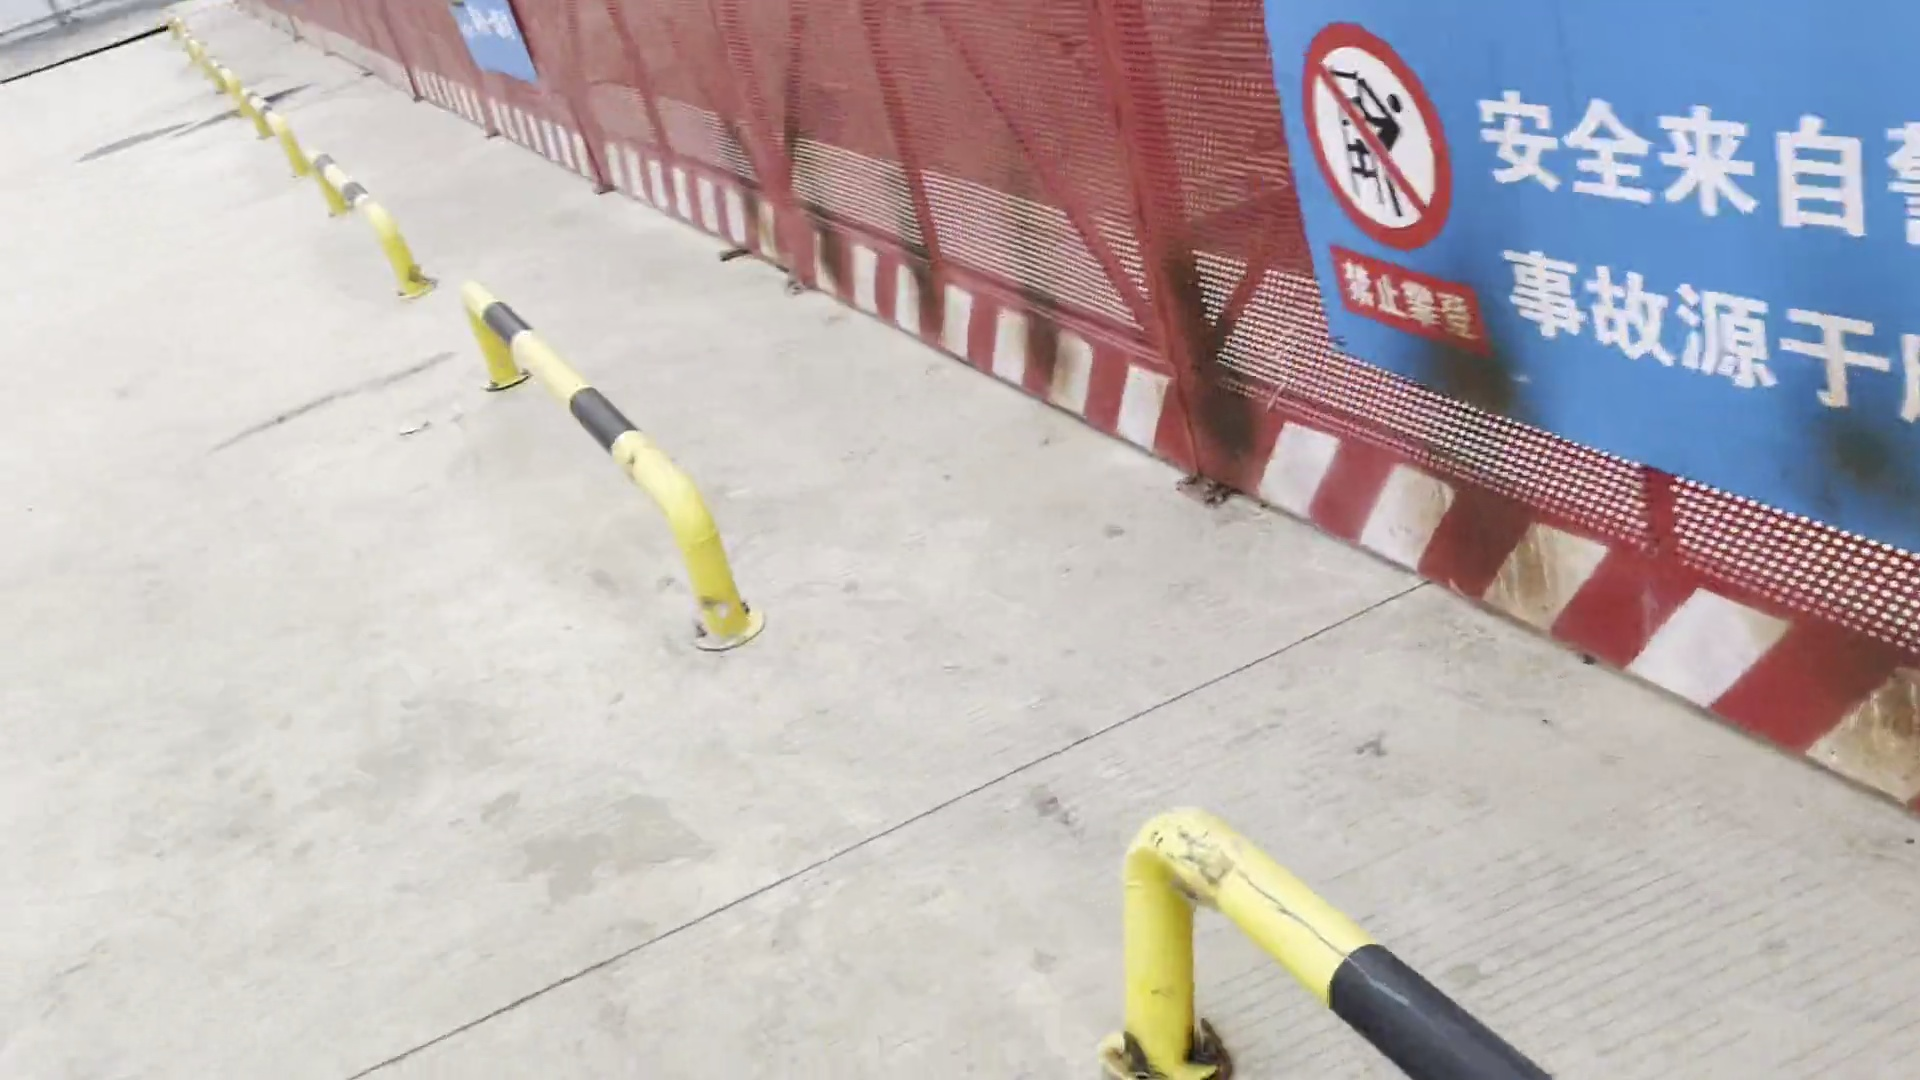fence: (1201, 1, 1920, 837), (708, 1, 1213, 522), (340, 4, 713, 269)
slogan: (1240, 3, 1920, 556), (436, 3, 556, 98)
